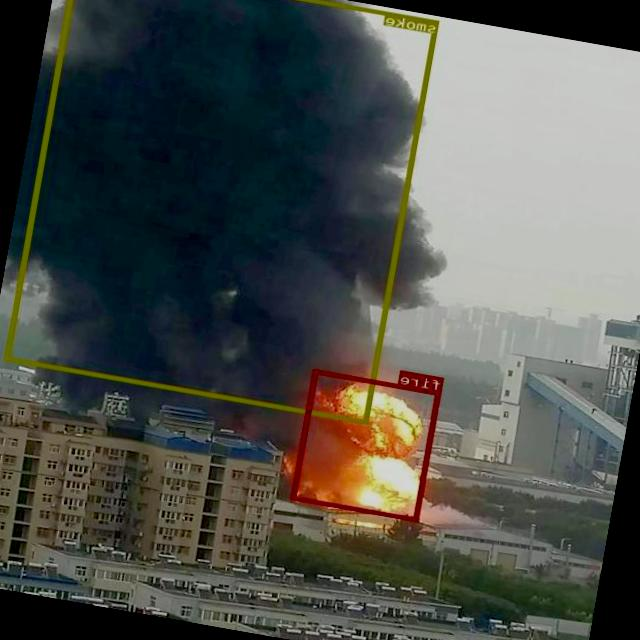fire: (292, 369, 442, 521)
smoke: (4, 0, 439, 423)
